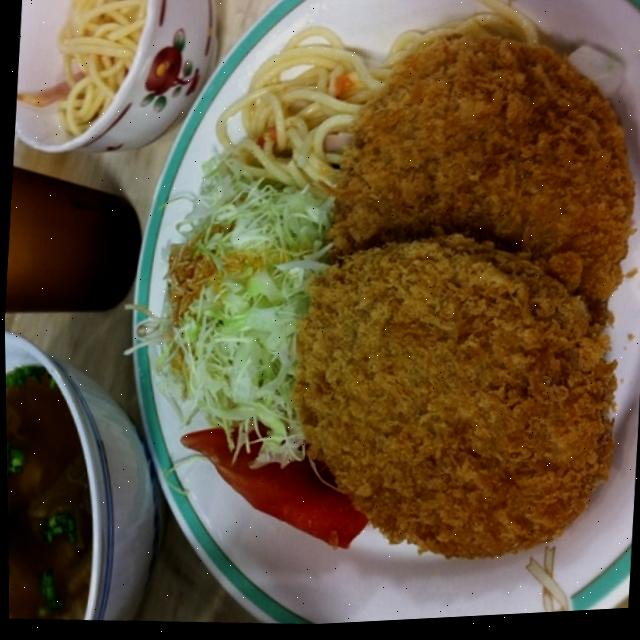炸货点心: (245, 0, 640, 594)
